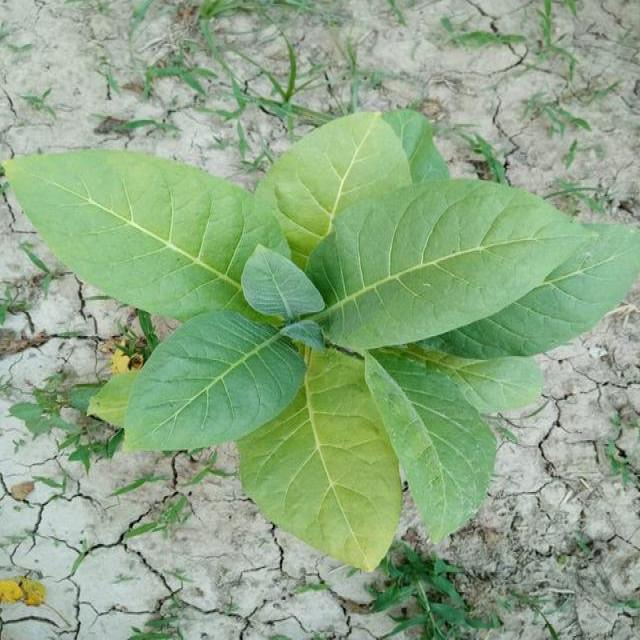crop: (9, 127, 636, 559)
